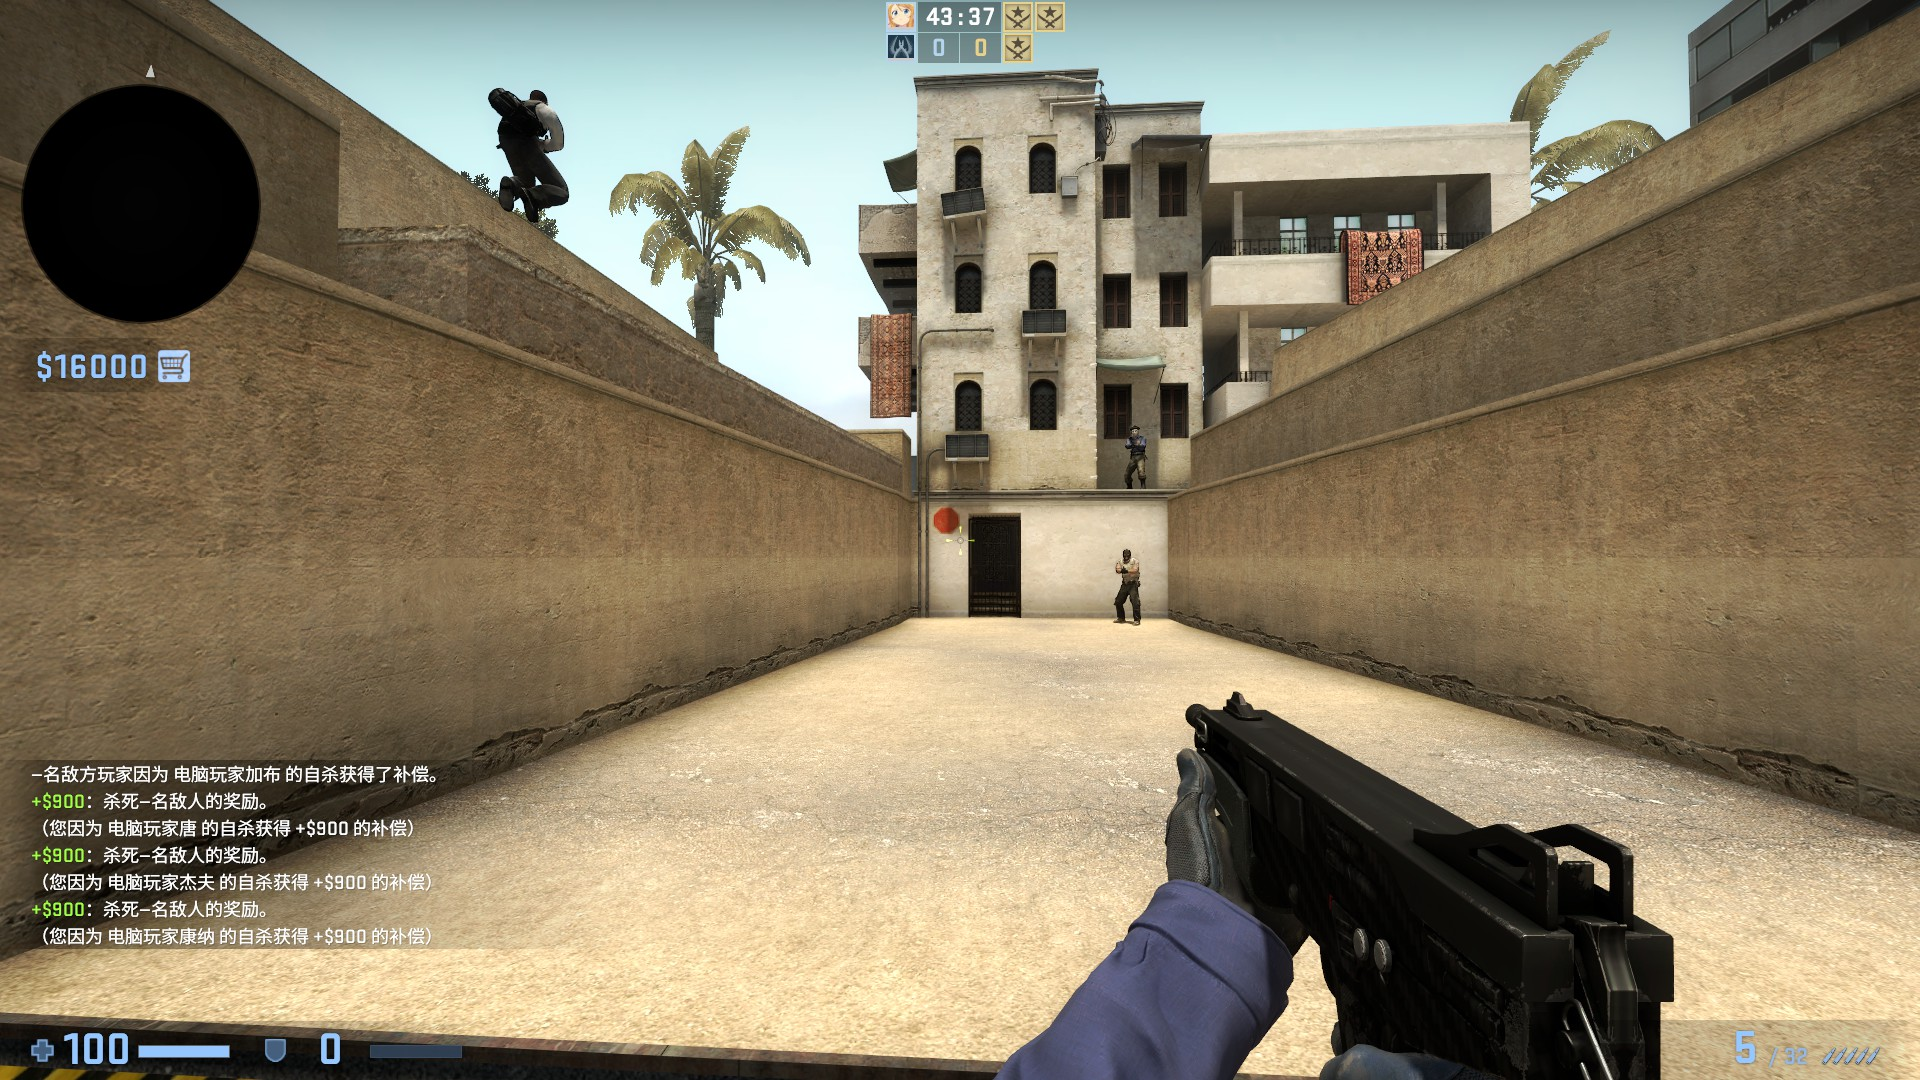head: (1127, 423, 1139, 437), (1121, 548, 1129, 562)
